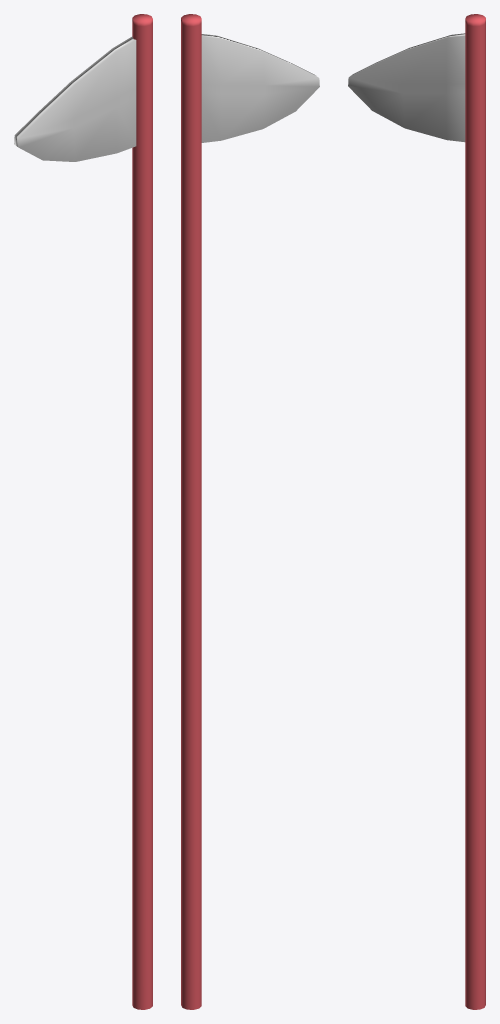
File: BanderaLocal.fbx
3 views of the same model, side by side, from view 1: azimuth 30°, elevation 25°; view 2: azimuth 210°, elevation 25°; view 3: azimuth 330°, elevation 25° (orthographic).
Parts seen in each view (by area): view 1: polySurface3323, polySurface3322; view 2: polySurface3323, polySurface3322; view 3: polySurface3323, polySurface3322.
Part boxes in pixels (bbox=[...]): polySurface3323: bbox=[132, 14, 152, 1009]; polySurface3322: bbox=[14, 36, 136, 161]; polySurface3323: bbox=[181, 14, 201, 1009]; polySurface3322: bbox=[201, 34, 319, 142]; polySurface3323: bbox=[465, 14, 485, 1009]; polySurface3322: bbox=[348, 33, 465, 142].
Size of the model in its own units: 57.08 by 400 by 7.23.
